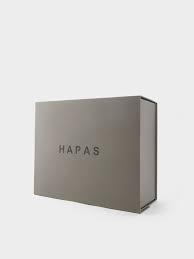box: (33, 95, 158, 214)
